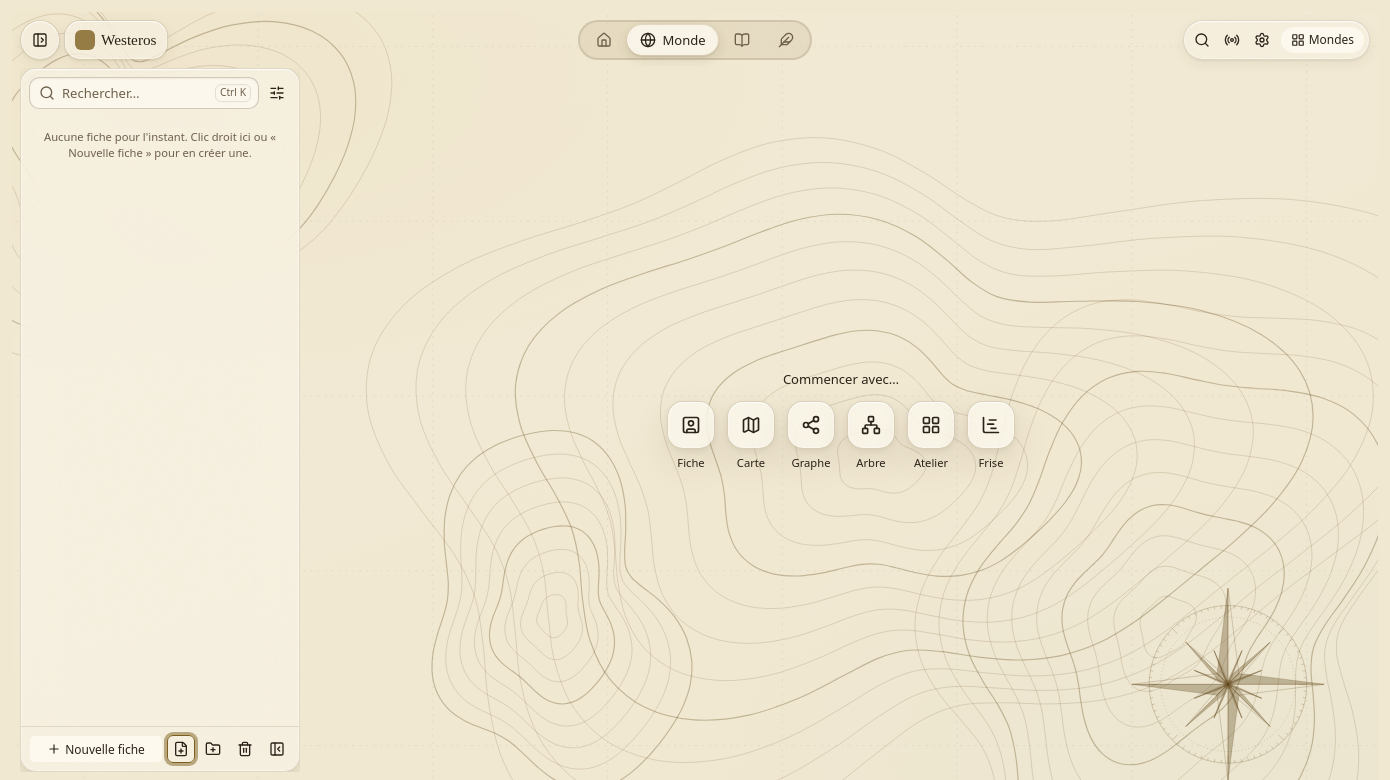
Test case: "New timeline" in the sidebar creates a timeline with one track, and opens it
This screenshot has width=1390, height=780.
Press Enter in the button named "Nouveau document", box x1=167 y1=735 x2=195 y2=763
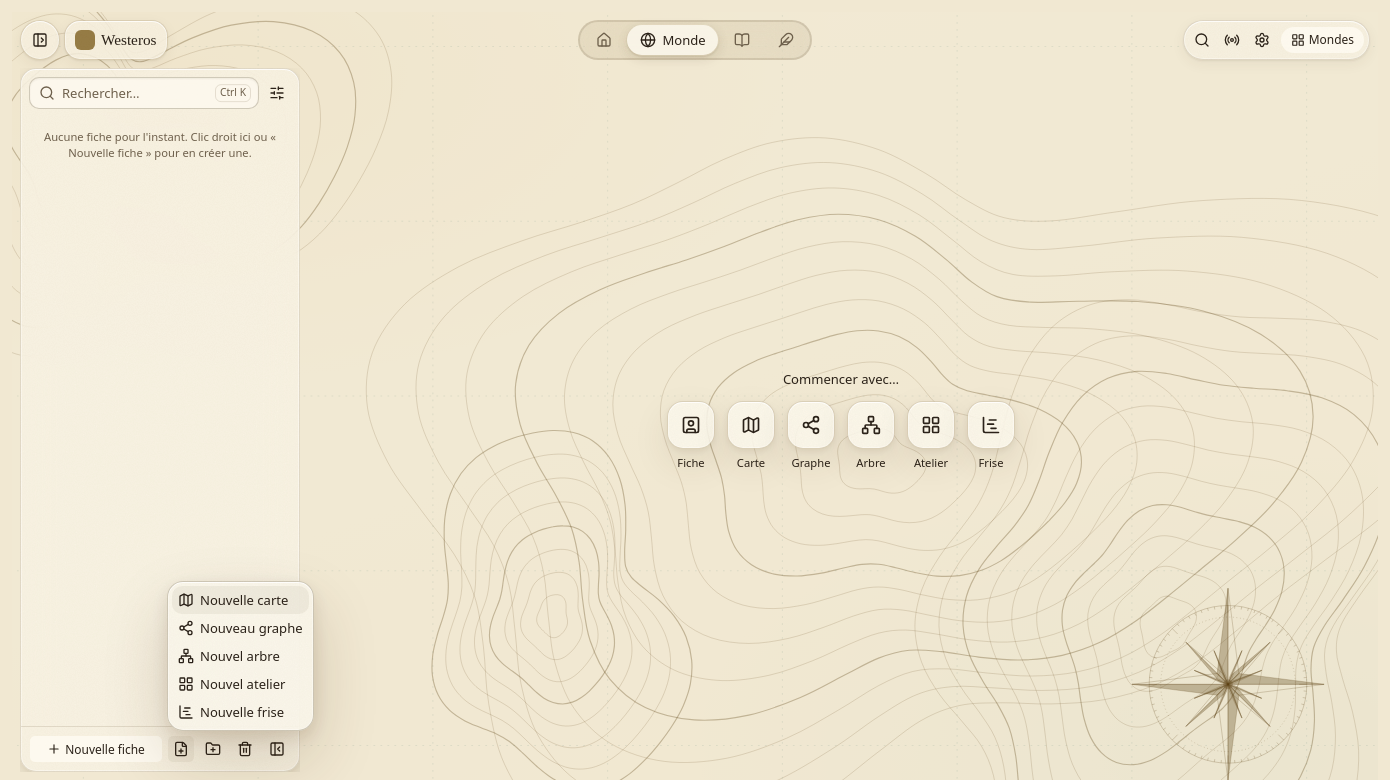
Click the menu item "Nouvelle frise". click: (231, 712)
box: x1=178 y1=703 x2=284 y2=721
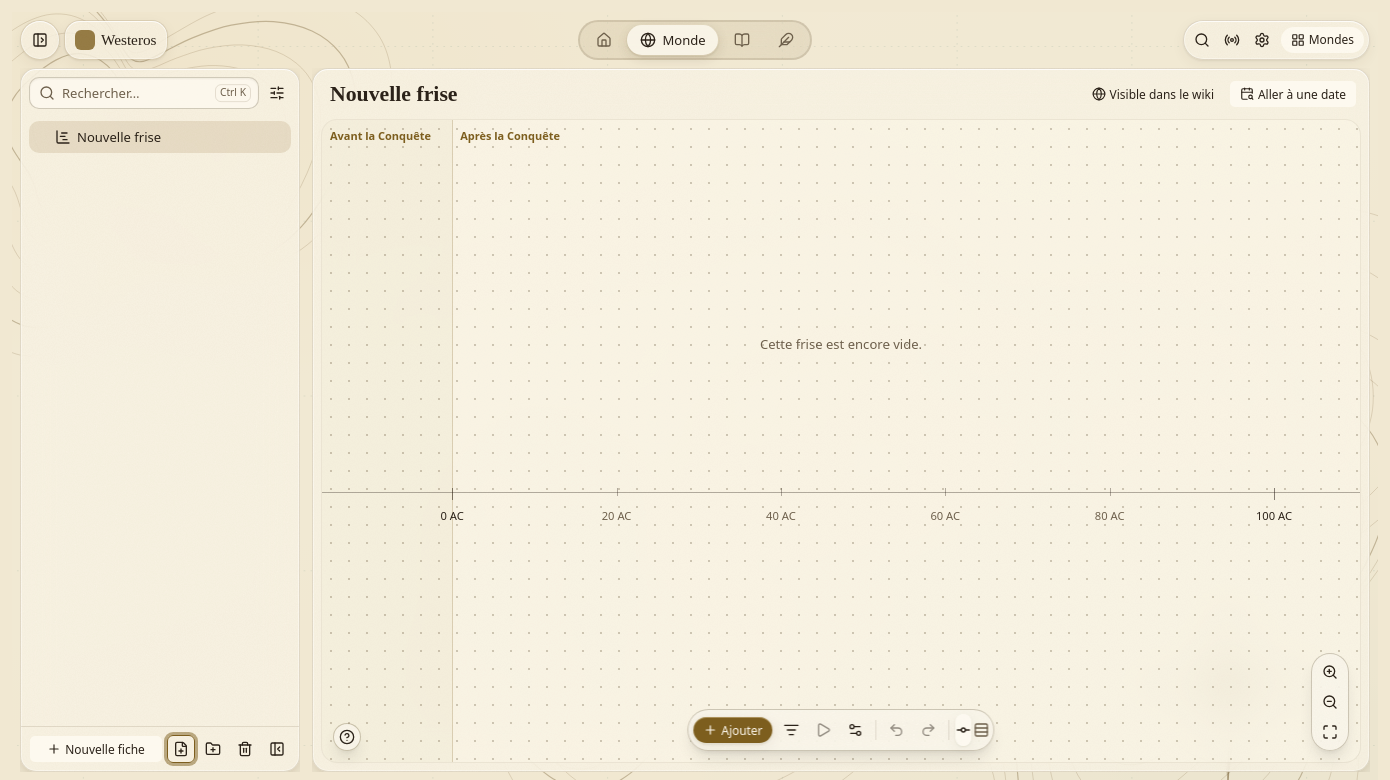
Expected: the text "Cette frise est encore vide." is shown, x1=760 y1=335 x2=922 y2=353
Click the radio button named "Pistes". click: (982, 730)
box: x1=974 y1=714 x2=990 y2=746
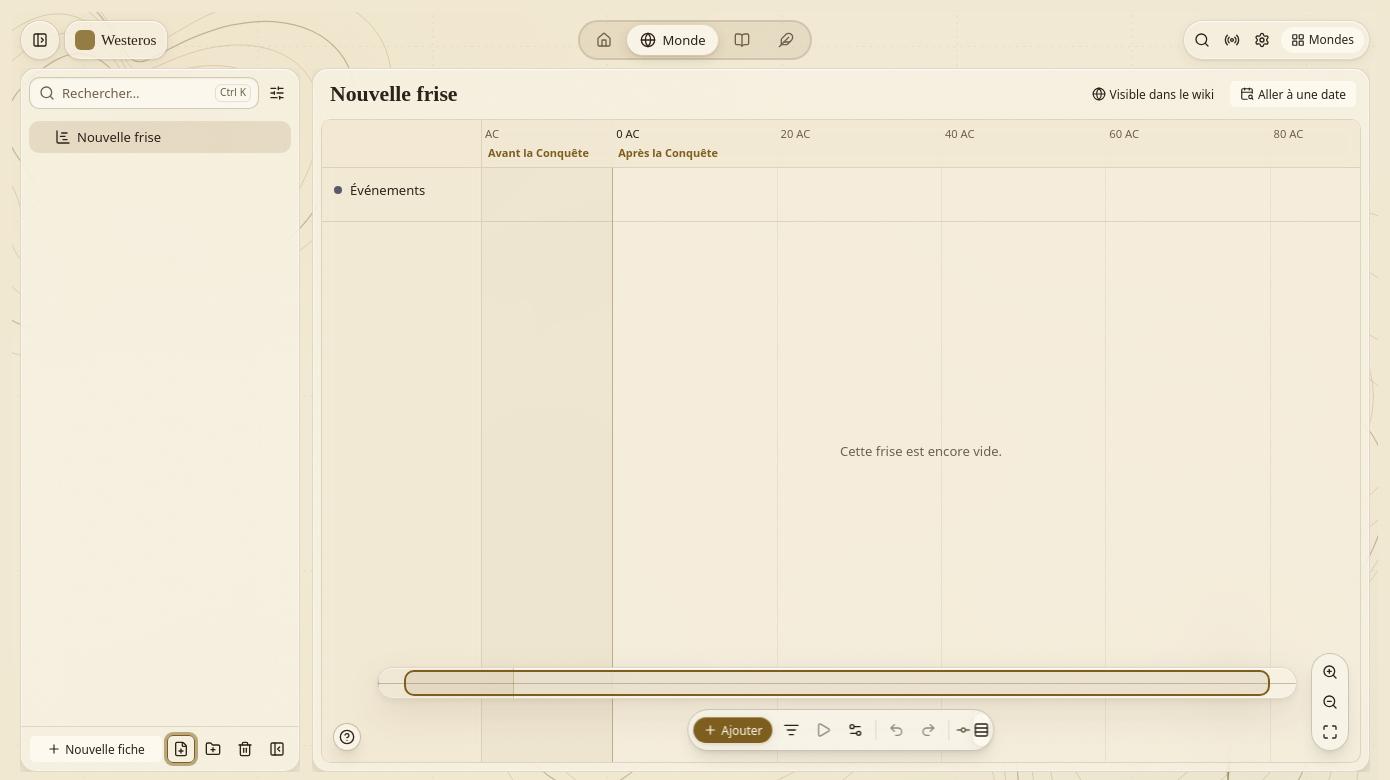
Expected: the list named "Événements" is shown, x1=482 y1=168 x2=1360 y2=222
